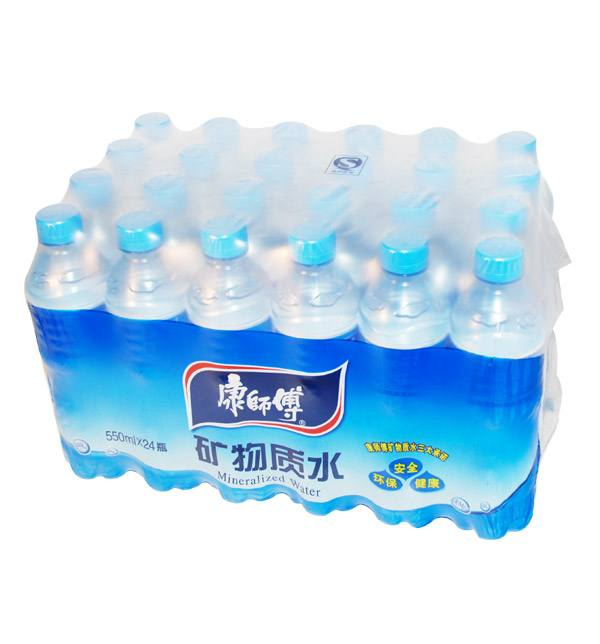amwater: (22, 92, 575, 567)
